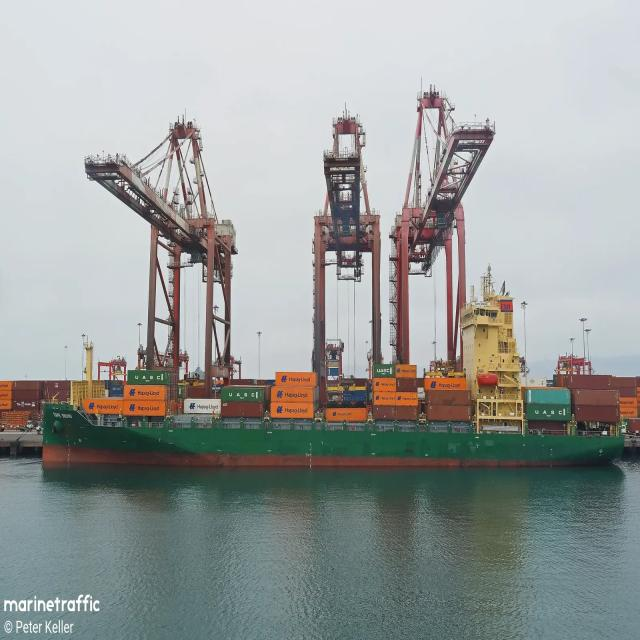Cargo: (43, 280, 621, 466)
